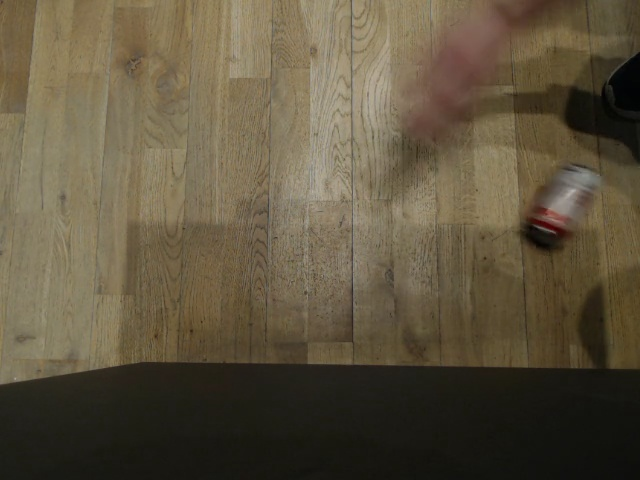cola: (526, 161, 603, 242)
